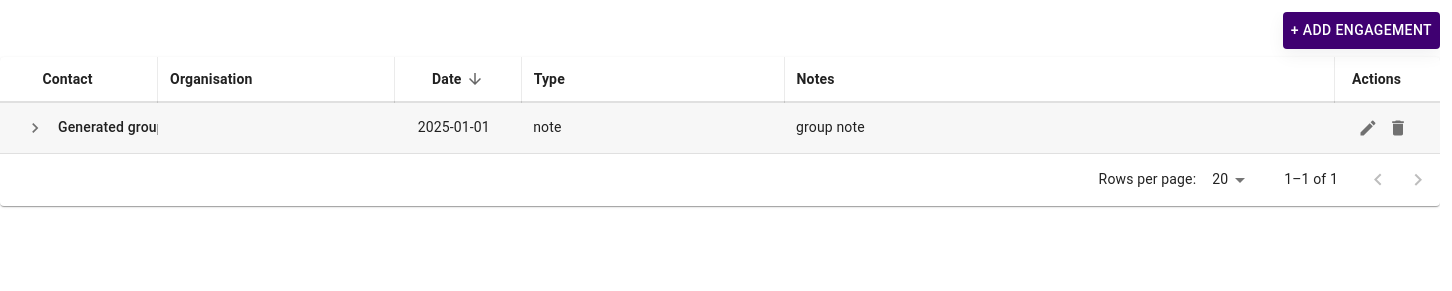
EngagementsTable expansion (isolated) › expands group row to reveal children when toggle clicked
This screenshot has width=1452, height=291.
Expected: the text "Generated group 999" is shown, [58,118,158,138]
// Toggle expand
Click the button named "toggle group" at (35, 128), box [20,112,50,142]
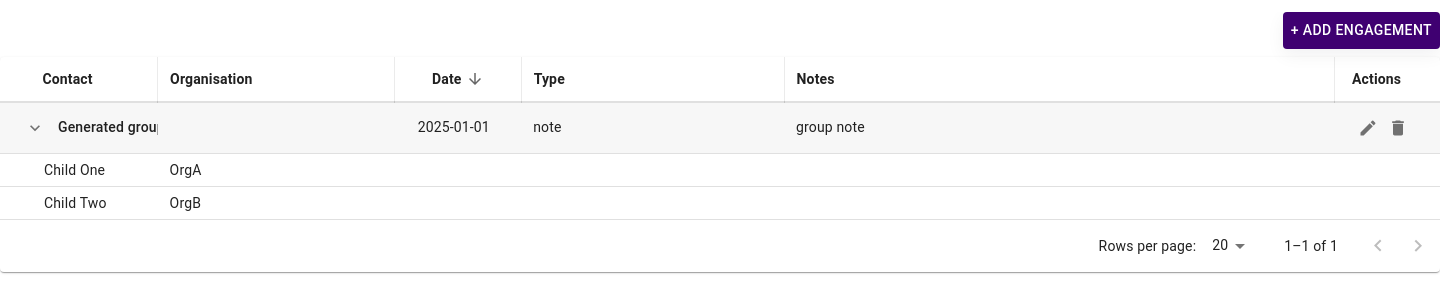
Expected: the text "Child One" is shown, [44,162,105,178]
Expected: the text "Child Two" is shown, [44,194,106,210]
